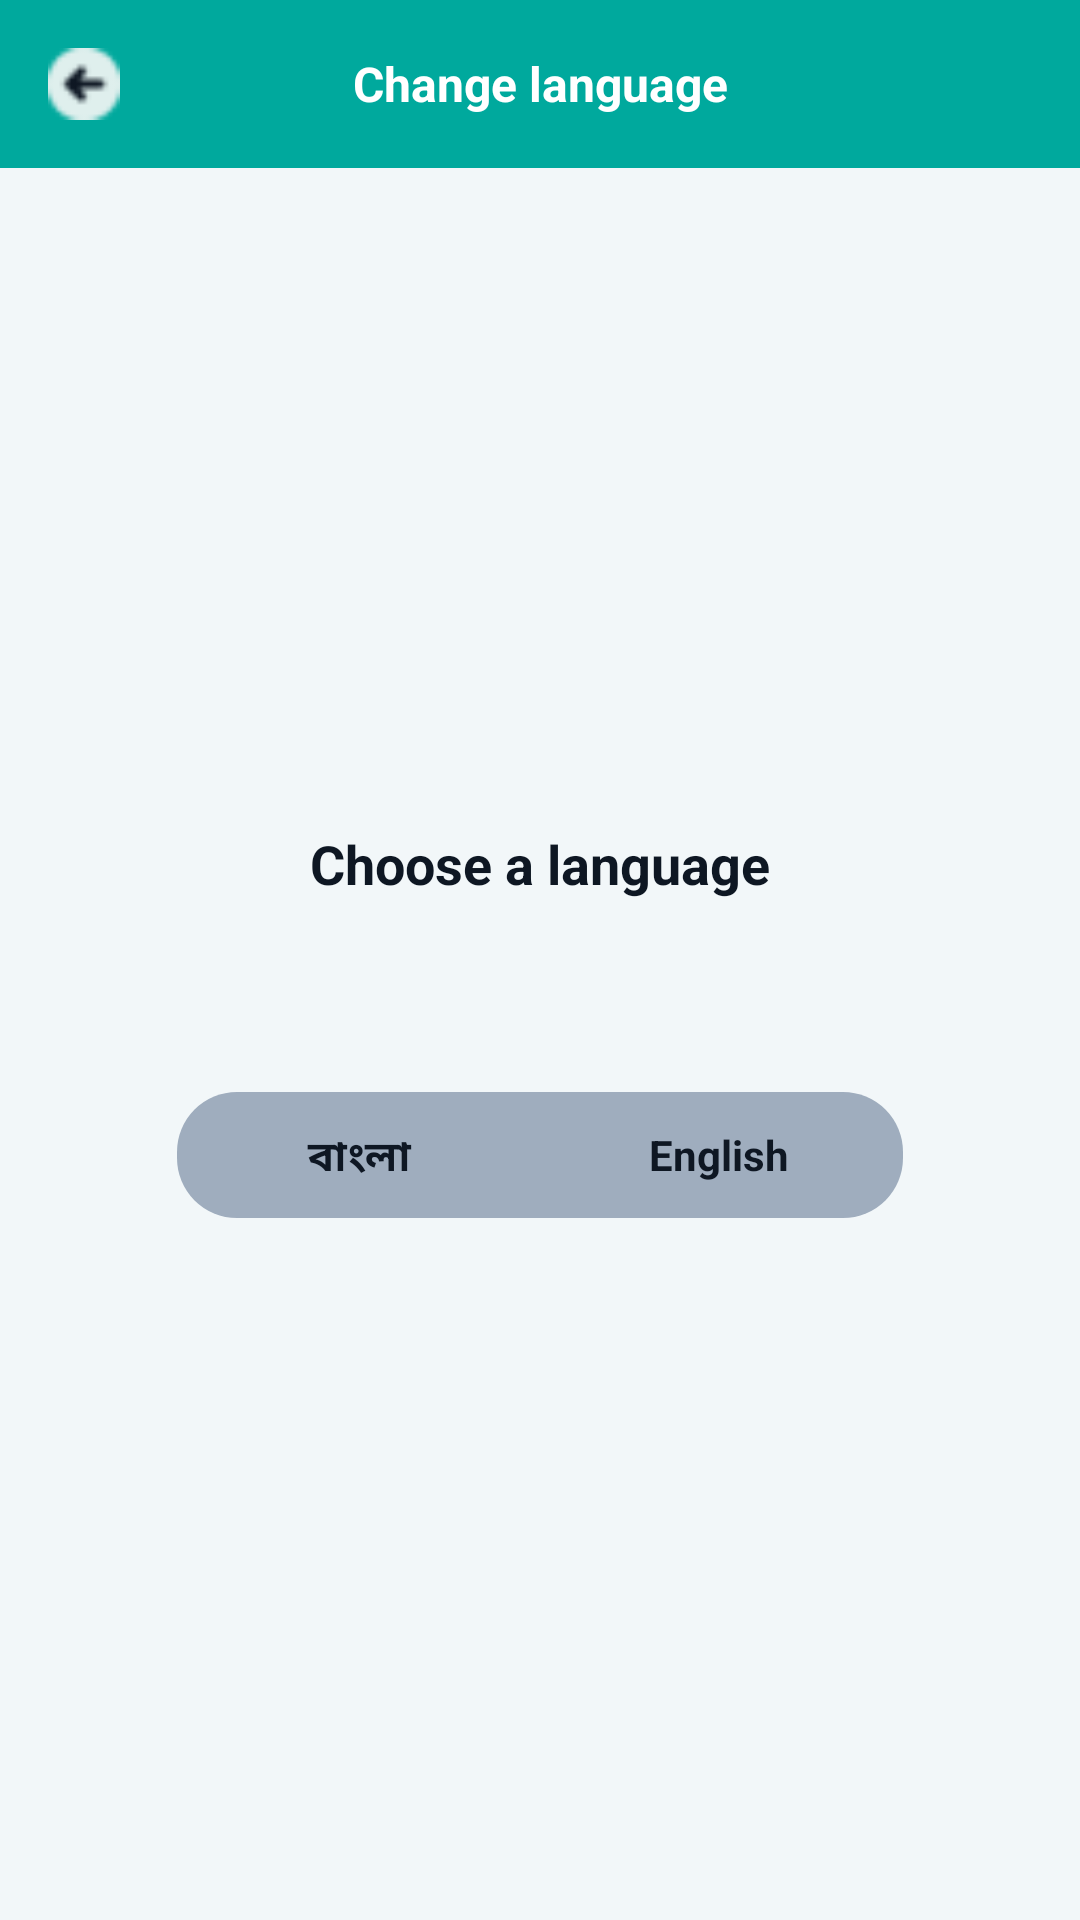

Locate icon controls on the screen. Image size 1080px x 1920px, boxes as bbox=[x1, y1, x2, y2].
previous: bbox=[48, 48, 120, 120]
